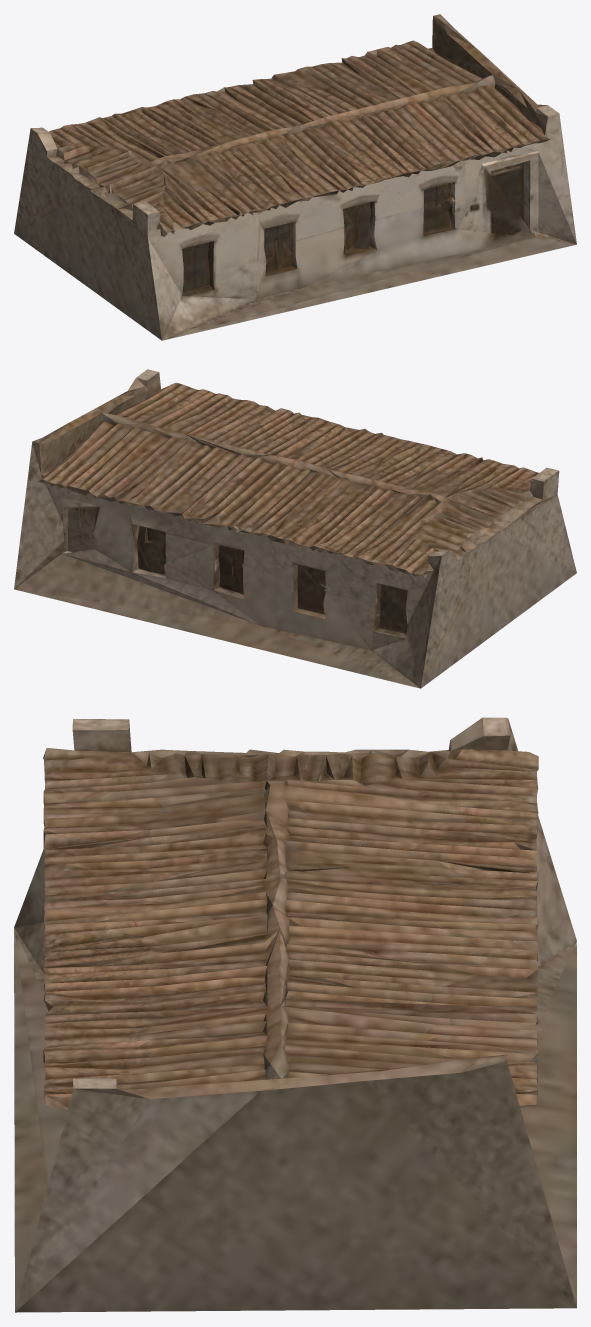
Rendered from casa-colonial-1.glb.
3 views of the same model, one above another, from view 1: azimuth 30°, elevation 25°; view 2: azimuth 150°, elevation 25°; view 3: azimuth 270°, elevation 25° (orthographic). The views are drawn at different scales.
Bounding box in the file's own units: 1.89 × 0.5828 × 1.2.
Materials: 1 (1 with a texture image).
